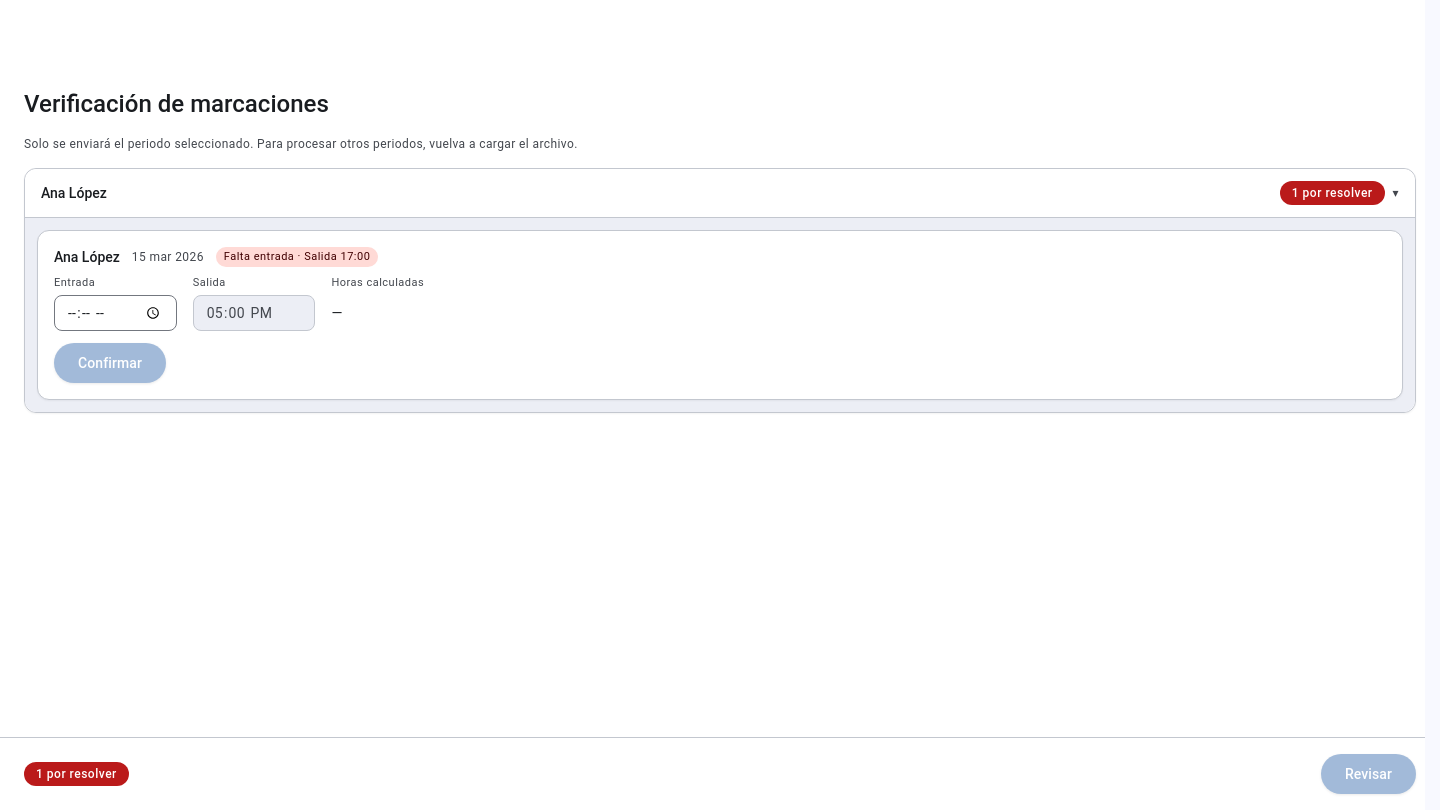
Test case: VerificationScreen time inputs › enables Confirmar when required fields are filled
Type "08:00" into the time field named "Entrada" at {"x": 115, "y": 313}, box [54,295,177,331]
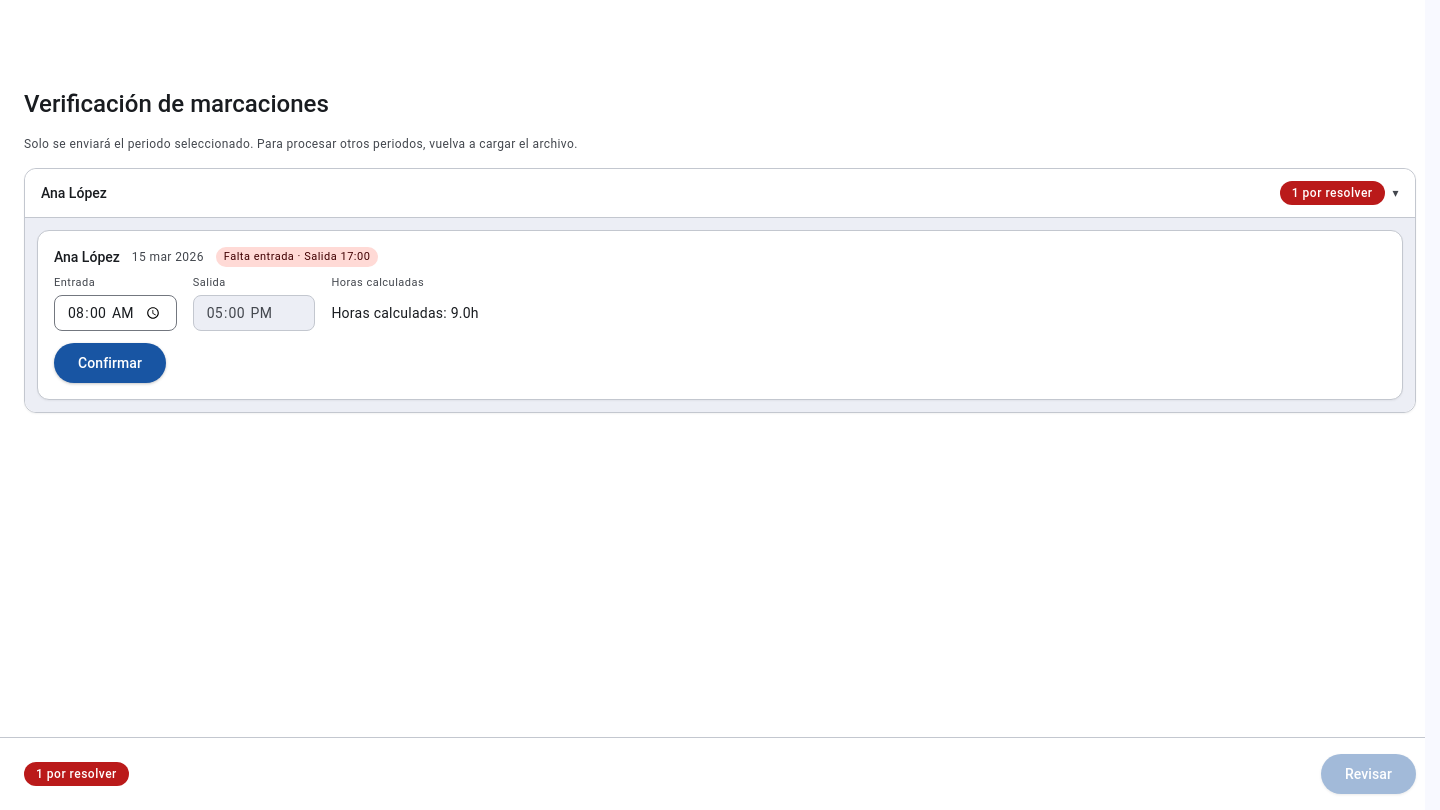
Expected: the button "Confirmar" is enabled, [54,343,166,383]
